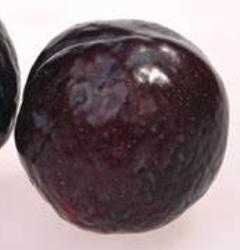plum_B: (16, 19, 229, 234)
